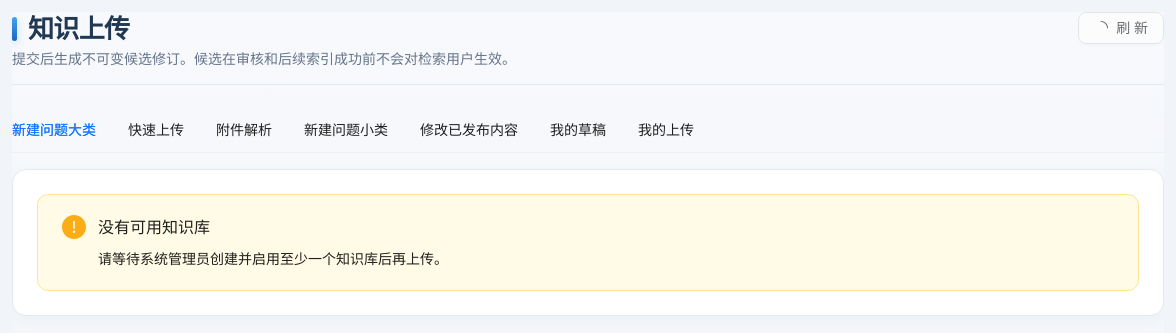
Test: ContentSubmissionPage › keeps the detail action for uploads without resubmission actions
Click the tab "我的上传" at coordinates (666, 130), box x1=638 y1=119 x2=694 y2=141
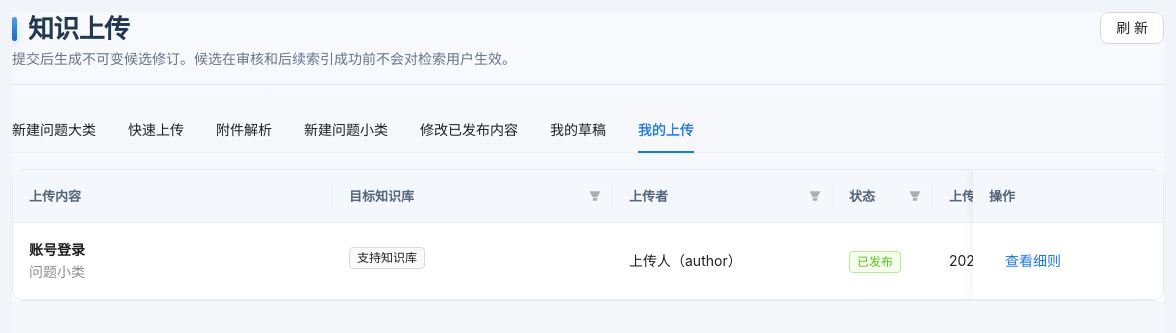
Result: the text "账号登录" is shown at x1=29 y1=241 x2=85 y2=258
Result: the column heading "操作" is shown at x1=973 y1=170 x2=1163 y2=223
Result: the button "查看细则" is shown at x1=989 y1=245 x2=1077 y2=277
